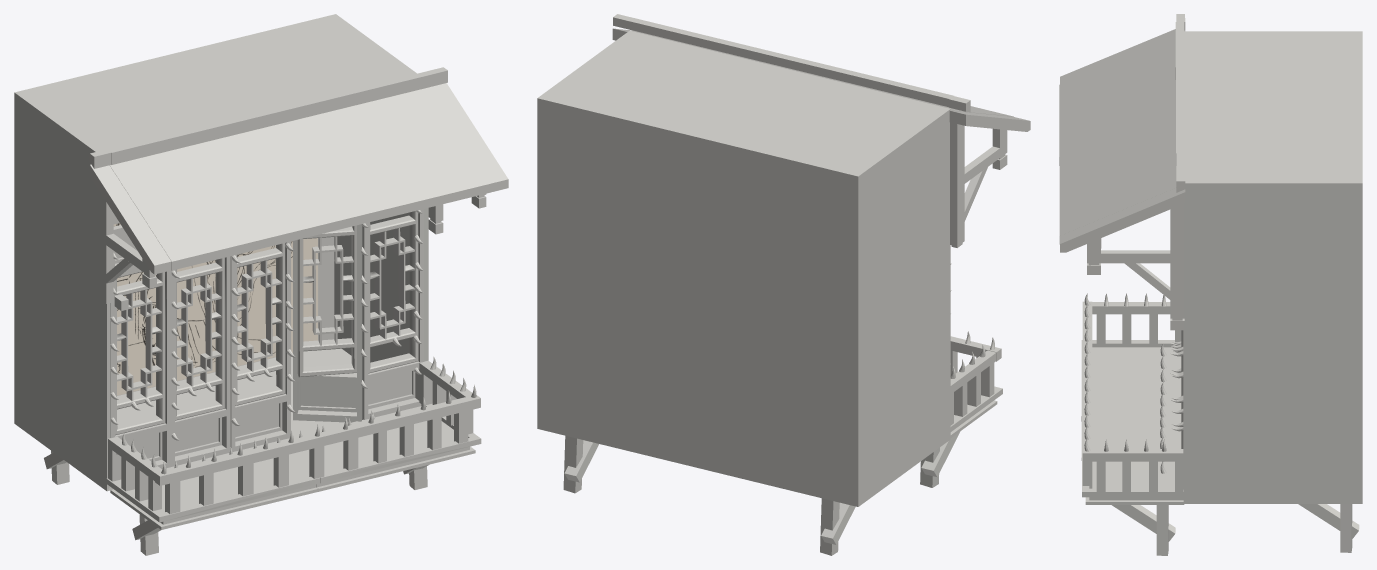
The model's file is painted-skin-window.glb.
The picture shows the model from 3 angles, left to right: view 1: azimuth 30°, elevation 25°; view 2: azimuth 150°, elevation 25°; view 3: azimuth 270°, elevation 25°; orthographic projection. The views are drawn at different scales.
Parts seen in each view (by area): view 1: Cube, obj_6_18097, ARTWORK — The Window with thorns, Cube.001, The Window with thorns-Painted skin, obj_5_18096, obj_44_13386_001, obj_44_13386_001.002, obj_44_13386_001.005, obj_14_24085, obj_44_13386_001.003, obj_44_13386_001.004 (+10 smaller); view 2: Cube, obj_5_18096, Cube.002, obj_27_14722, Cube.001, obj_14_24085, obj_2_18081.001, obj_21_18082.001, obj_6_18097, obj_118_18078.001, obj_22_14723; view 3: Cube, obj_6_18097, Cube.001, obj_14_24085.001, Cube.003, Cube.002, obj_2_15190, obj_5_18096, obj_176_15191, obj_14_24085, obj_20_18080, obj_21_18082 (+3 smaller).
Part boxes in pixels (box(x1,y1,x2,y2)): Cube: box(14, 14, 428, 491); obj_6_18097: box(110, 87, 491, 270); ARTWORK — The Window with thorns: box(110, 209, 423, 469); Cube.001: box(106, 395, 481, 529); The Window with thorns-Painted skin: box(113, 223, 317, 395); obj_5_18096: box(107, 71, 430, 164); obj_44_13386_001: box(297, 225, 356, 377); obj_44_13386_001.002: box(235, 243, 285, 405); obj_44_13386_001.005: box(368, 211, 418, 373); obj_14_24085: box(90, 164, 171, 274); obj_44_13386_001.003: box(175, 257, 224, 420); obj_44_13386_001.004: box(115, 269, 165, 435); Cube: box(537, 30, 950, 506); obj_5_18096: box(630, 18, 953, 107); Cube.002: box(950, 350, 996, 425); obj_27_14722: box(950, 122, 964, 247); Cube.001: box(950, 336, 1002, 437); obj_14_24085: box(949, 110, 1030, 131); obj_2_18081.001: box(820, 498, 839, 555); obj_21_18082.001: box(563, 435, 583, 493); obj_6_18097: box(644, 34, 1013, 116); obj_118_18078.001: box(821, 502, 855, 544); obj_22_14723: box(964, 146, 999, 183); Cube: box(1183, 31, 1362, 503); obj_6_18097: box(1059, 36, 1176, 244); Cube.001: box(1081, 301, 1184, 504); obj_14_24085.001: box(1060, 188, 1185, 252); Cube.003: box(1092, 449, 1183, 491); Cube.002: box(1092, 302, 1181, 344); obj_2_15190: box(1170, 203, 1184, 320); obj_5_18096: box(1175, 22, 1184, 172); obj_176_15191: box(1101, 250, 1170, 263); obj_14_24085: box(1060, 29, 1185, 84); obj_20_18080: box(1112, 505, 1175, 541); obj_21_18082: box(1156, 505, 1168, 555).
Bounding box in the file's own units: 2.44 × 2.65 × 1.87.
Materials: 2 (1 with a texture image).
